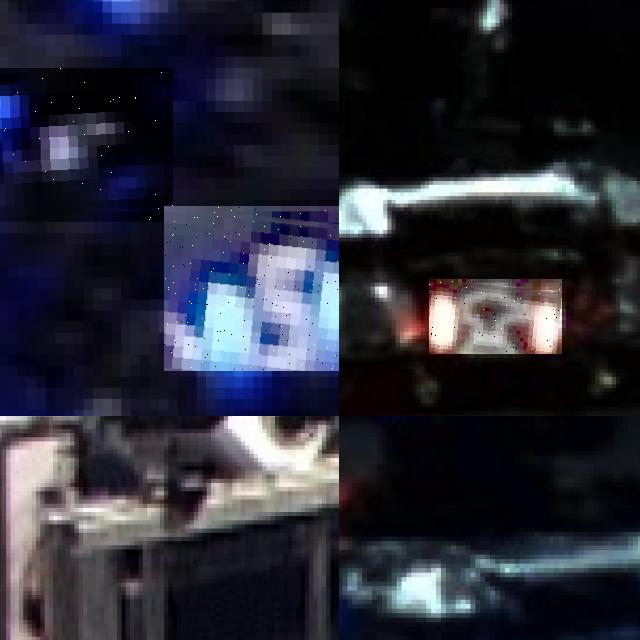B5: (163, 205, 339, 371), (0, 67, 173, 222)
Rs: (429, 279, 562, 354)
